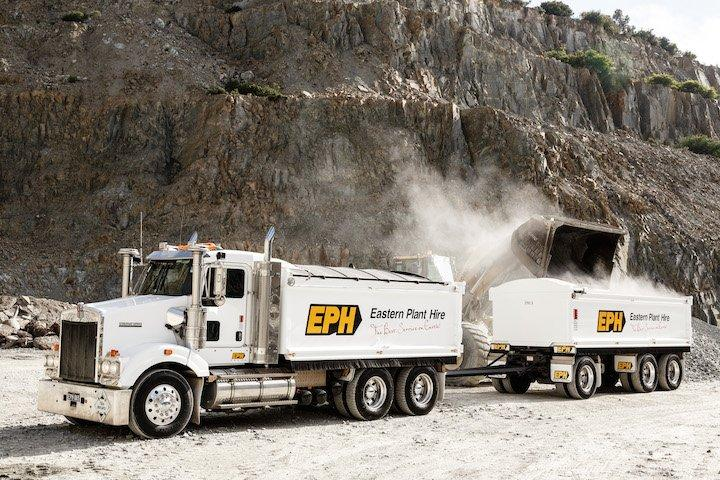truck: (38, 237, 461, 441)
